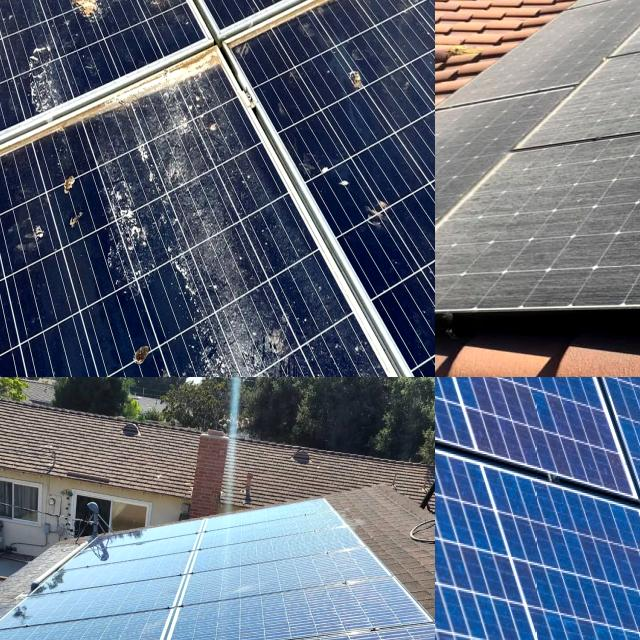bird: (96, 166, 158, 294), (222, 255, 282, 372), (172, 85, 222, 194), (121, 311, 192, 377), (45, 152, 90, 242), (321, 52, 386, 114), (228, 0, 315, 42), (23, 33, 62, 116), (0, 0, 42, 61), (340, 347, 425, 377), (364, 171, 401, 237), (169, 0, 208, 59), (128, 0, 181, 43), (52, 0, 111, 38), (0, 308, 36, 369), (0, 0, 18, 118), (332, 0, 392, 32), (13, 0, 62, 38), (262, 0, 316, 23), (393, 0, 435, 25)
crack: (435, 377, 640, 640), (148, 578, 435, 640), (0, 611, 253, 640)
dust: (435, 125, 640, 298), (586, 0, 640, 105)
